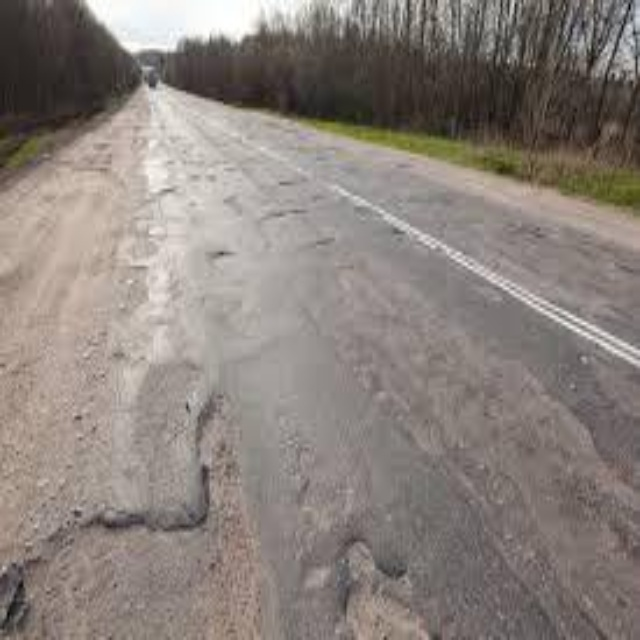pothole: (0, 441, 435, 640)
